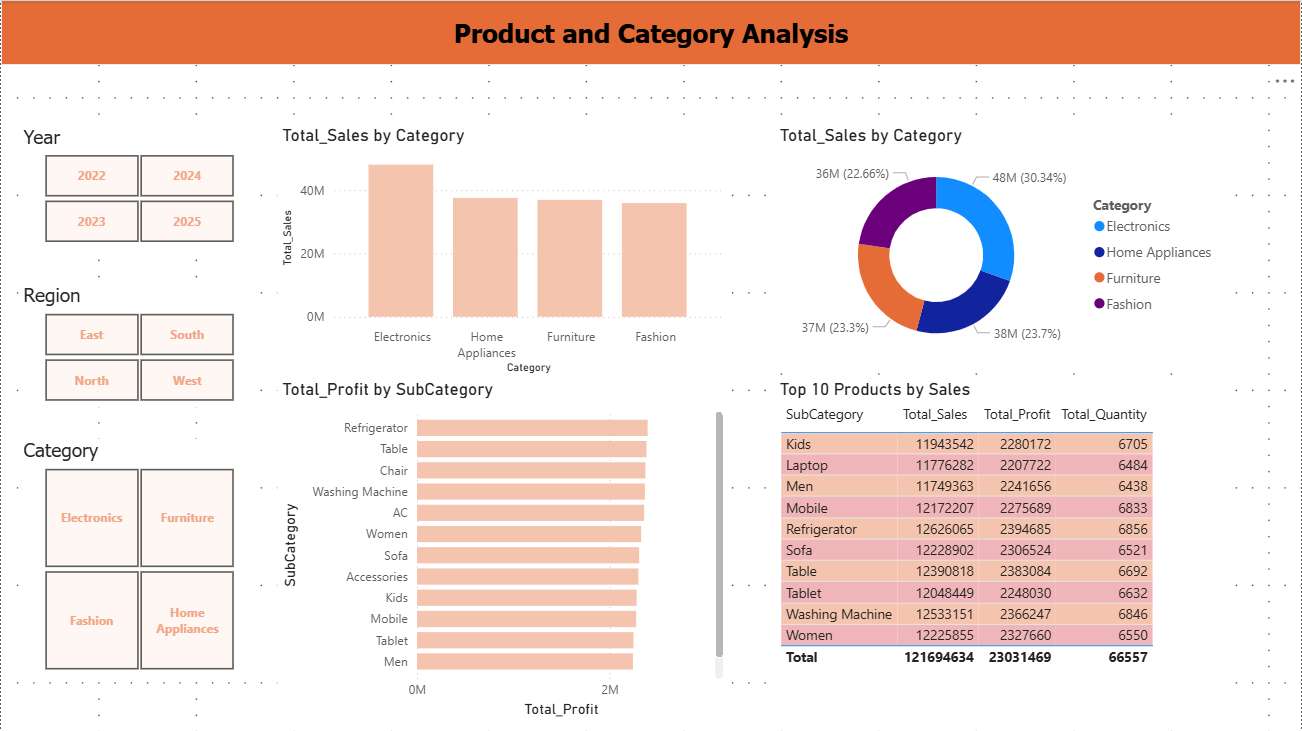

Layout of this report page (visuals, bound fields, positions):
{"tool":"powerbi","page":{"name":"product & category analysis","canvas":[1280,720],"ordinal":1},"visuals":[{"type":"shape","title":"Sales Overview ","box":[0,0,1280,64],"z":0},{"type":"columnChart","fields":{"Category":["Products.Category"],"Y":["All Measures.Total_Sales"]},"box":[272,123.1,444.3,249.8],"z":1000},{"type":"slicer","title":"Year","fields":{"Values":["Dim_Date.Year"]},"box":[17.2,123.1,236.3,121.8],"z":2000},{"type":"slicer","title":"Category","fields":{"Values":["Products.Category"]},"box":[17.2,432,236.3,233.8],"z":3000},{"type":"slicer","title":"Region","fields":{"Values":["Orders.Region"]},"box":[17.2,279.4,236.3,121.8],"z":4000},{"type":"donutChart","fields":{"Category":["Products.Category"],"Y":["All Measures.Total_Sales"]},"box":[761.8,123.1,444.3,237.5],"z":5000},{"type":"barChart","fields":{"Y":["All Measures.Total_Profit"],"Category":["Products.SubCategory"]},"box":[272,372.9,444.3,338.5],"z":6000},{"type":"tableEx","title":"Top 10 Products by Sales","fields":{"Values":["Products.SubCategory","All Measures.Total_Sales","All Measures.Total_Profit","All Measures.Total_Quantity"]},"box":[761.8,372.9,444.3,338.5],"z":7000}]}

Visuals, with their boxes in screenshot pixels (x1, y1, x2, y2), scaled from the page's 1280x720 canvas onto the 1302x731 screenshot:
"Sales Overview " shape: 0, 0, 1301, 65
columnChart - Products.Category x All Measures.Total_Sales: 277, 125, 729, 379
"Year" slicer: 17, 125, 258, 249
"Category" slicer: 17, 439, 258, 676
"Region" slicer: 17, 284, 258, 407
donutChart - Products.Category x All Measures.Total_Sales: 775, 125, 1227, 366
barChart - All Measures.Total_Profit x Products.SubCategory: 277, 379, 729, 722
"Top 10 Products by Sales" tableEx: 775, 379, 1227, 722
